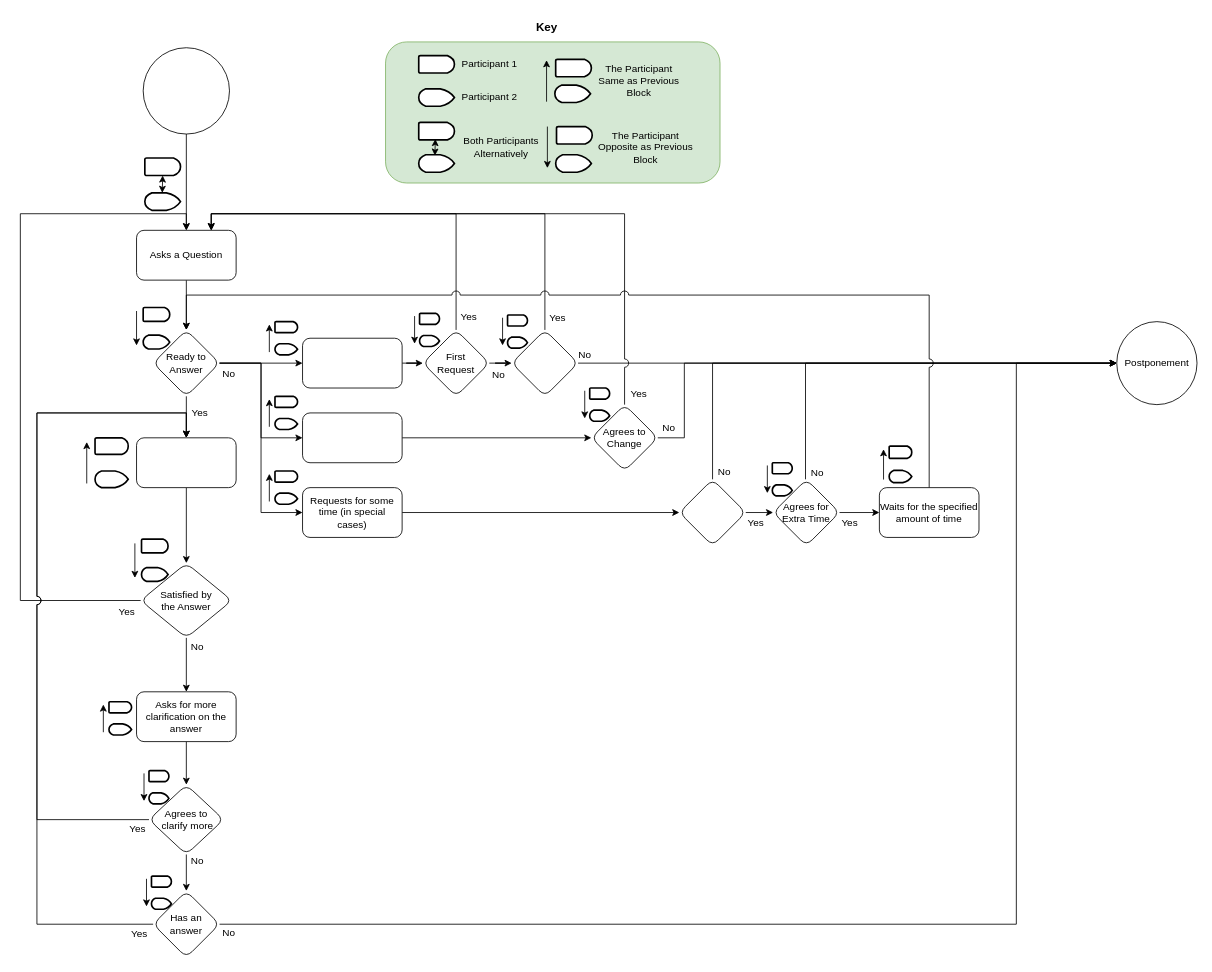
The diagram is 1212 pixels wide and 972 high, and some of its shapes have lost their labels. The shapes that lost their labels are listed below. From the top down, each one's box as (x1, y1, x2, y2) in pixels, then its label:
(142, 47, 229, 134): Start
(302, 337, 402, 388): Requests for Rephrasing
(511, 329, 578, 396): Agrees to Rephrase
(302, 412, 402, 463): Requests for Changing the Question
(136, 437, 236, 488): Answers the Question
(679, 478, 746, 546): Time Available
